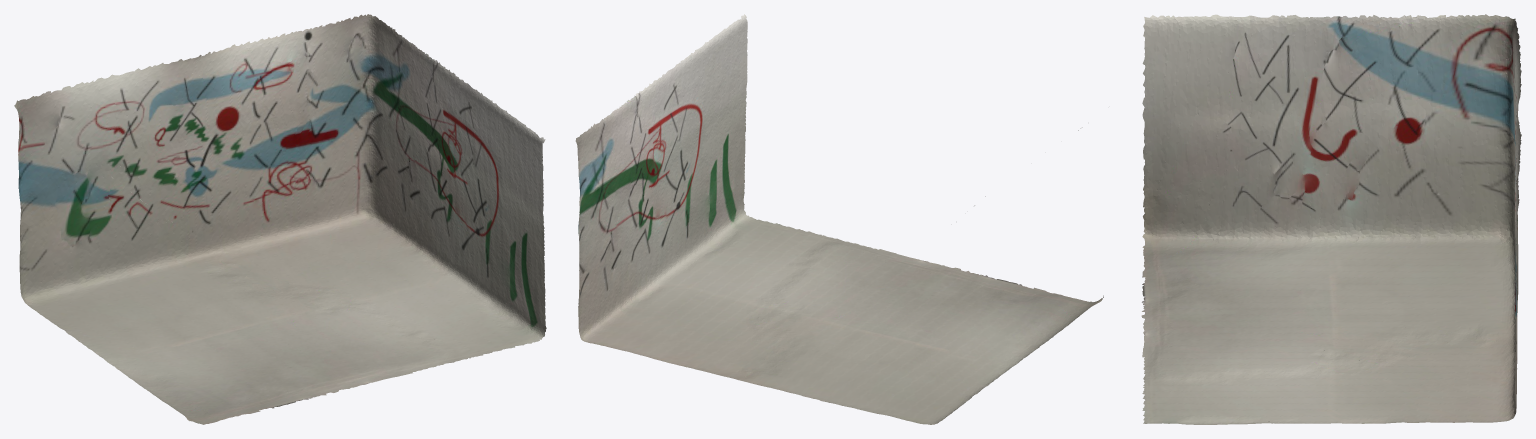
File: tejimaworks01.gltf
The picture shows the model from 3 angles, left to right: view 1: azimuth 30°, elevation 25°; view 2: azimuth 150°, elevation 25°; view 3: azimuth 270°, elevation 25°; orthographic projection. The views are drawn at different scales.
Size of the model in its own units: 4.65 by 2.46 by 3.83.
1 material, 1 textured.
